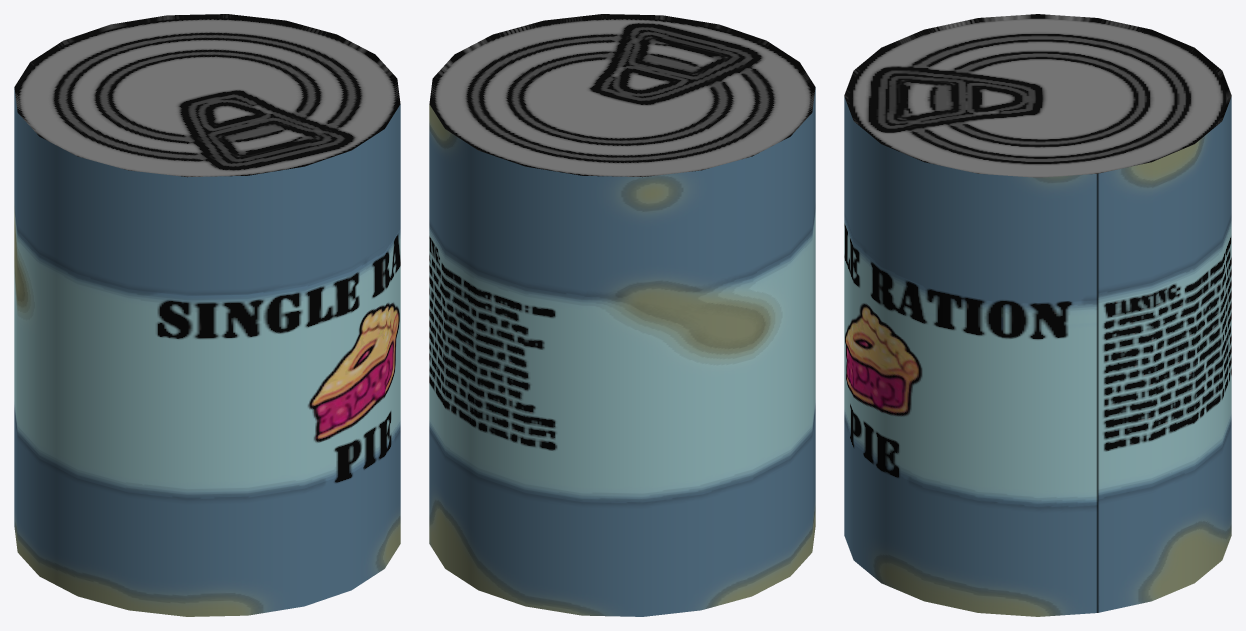
File: PieCan.fbx
3 renders of one model, left to right at view 1: azimuth 30°, elevation 25°; view 2: azimuth 150°, elevation 25°; view 3: azimuth 270°, elevation 25°, orthographic.
Parts seen in each view (by area): view 1: pCylinder1; view 2: pCylinder1; view 3: pCylinder1.
Part boxes in pixels (left/top/right/bottom): pCylinder1: left=14, top=14, right=400, bottom=616; pCylinder1: left=429, top=14, right=815, bottom=616; pCylinder1: left=844, top=14, right=1231, bottom=616.
Bounding box in the file's own units: 16 × 20 × 16.
